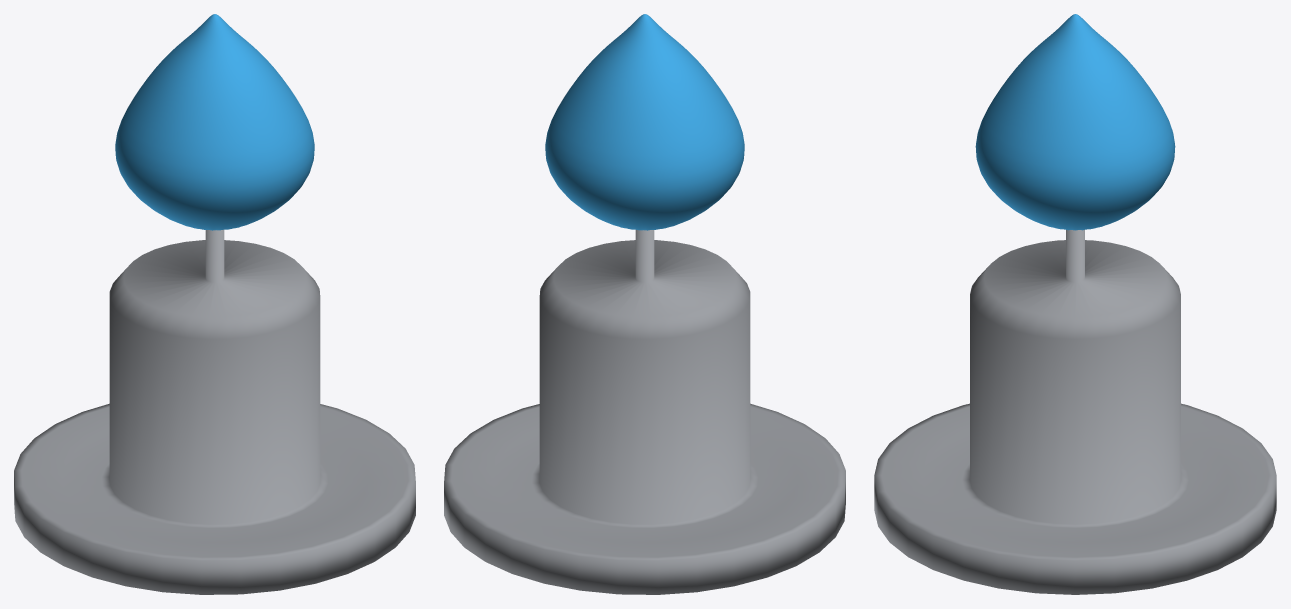
The model's file is candle.fbx.
The picture shows the model from 3 angles, left to right: view 1: azimuth 30°, elevation 25°; view 2: azimuth 150°, elevation 25°; view 3: azimuth 270°, elevation 25°; orthographic projection.
Visible parts, largest first — view 1: candlemerged; view 2: candlemerged; view 3: candlemerged.
Part boxes in pixels (x1,y1,x2,y2): candlemerged: (14,14,415,594); candlemerged: (444,14,845,594); candlemerged: (874,14,1276,594).
Bounding box in the file's own units: 147 × 199 × 147.
